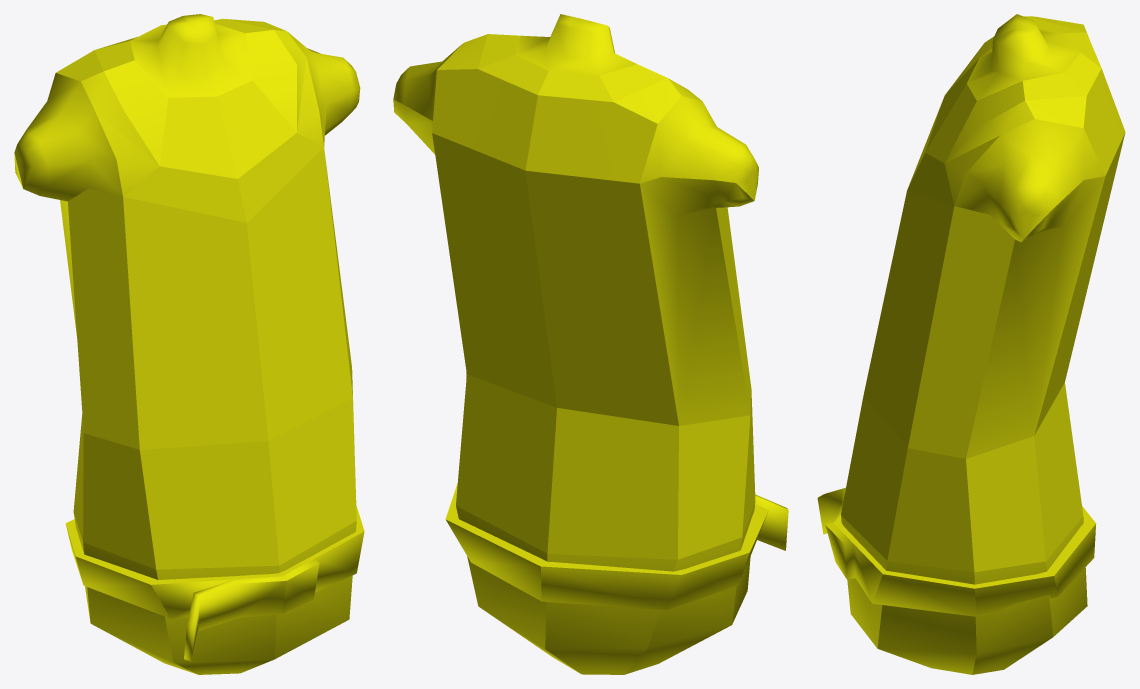
File: TORSO.glb
The picture shows the model from 3 angles, left to right: view 1: azimuth 30°, elevation 25°; view 2: azimuth 150°, elevation 25°; view 3: azimuth 270°, elevation 25°; orthographic projection. The views are drawn at different scales.
Visible parts, largest first — view 1: Cube; view 2: Cube; view 3: Cube.
Part boxes in pixels (x1=…): Cube: x1=14, y1=14, x2=364, y2=674; Cube: x1=393, y1=14, x2=788, y2=674; Cube: x1=817, y1=14, x2=1125, y2=674.
Size of the model in its own units: 1.24 by 2.21 by 0.9784.
1 material, 1 textured.
